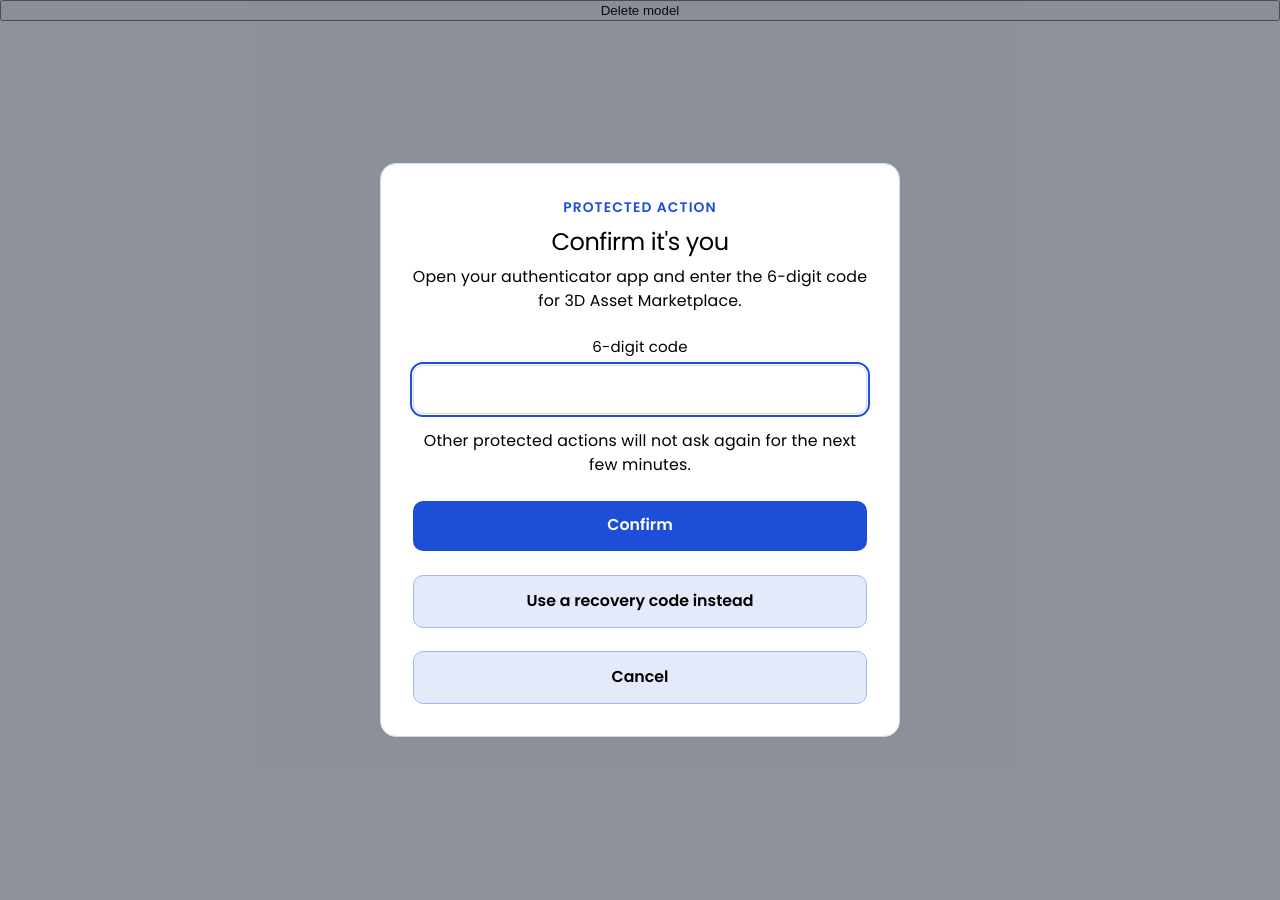
Test case: AdminStepUpDialog › keeps the prompt open and shows why when the code is wrong
Type "000000" into the field labelled "6-digit code" at (640, 389), box [413,365,867,414]
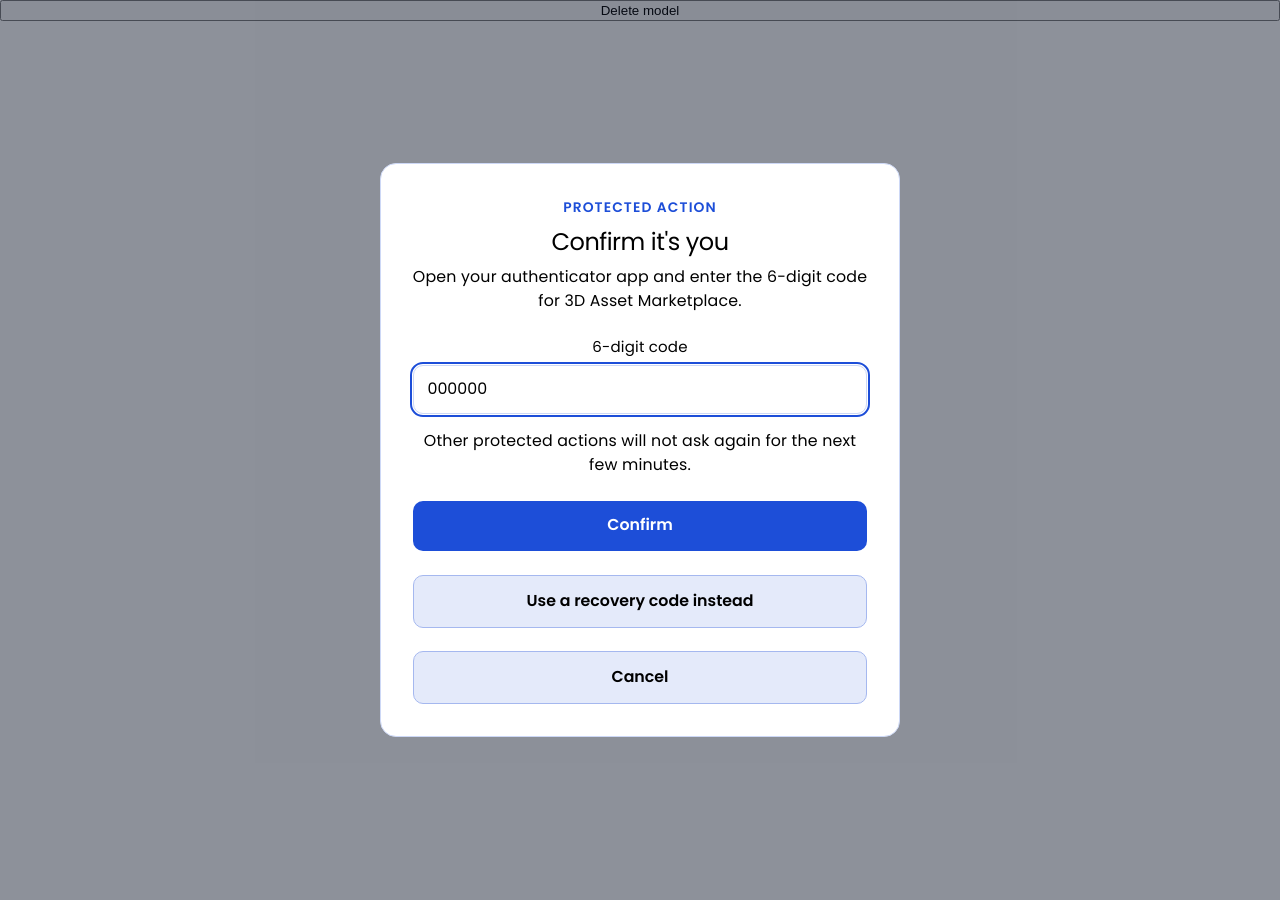
Click the button "Confirm" at (640, 526), box [413,501,867,551]
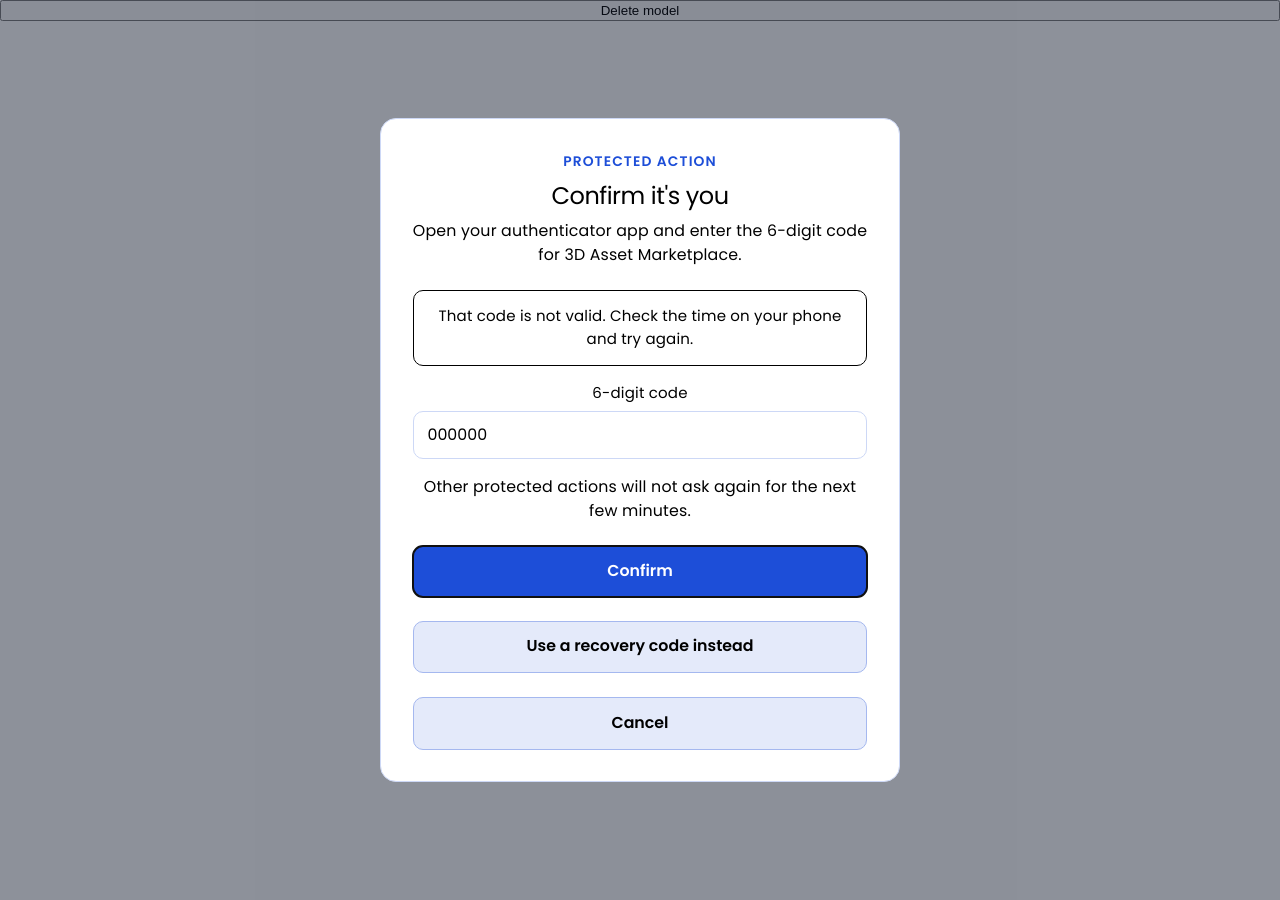
expect the dialog is shown: met, box [380,118,900,782]
expect the text "That code is not valid. Check the time on your phone and try again." is shown: met, box [413,290,867,366]
